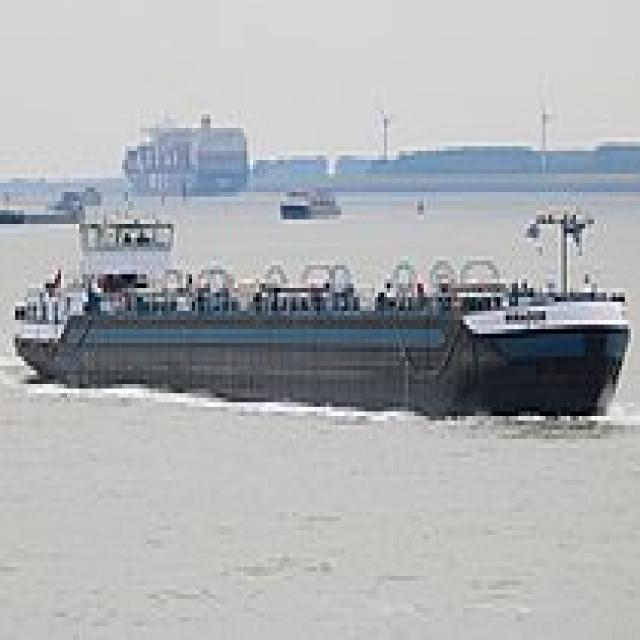Tanker: (6, 206, 634, 416)
